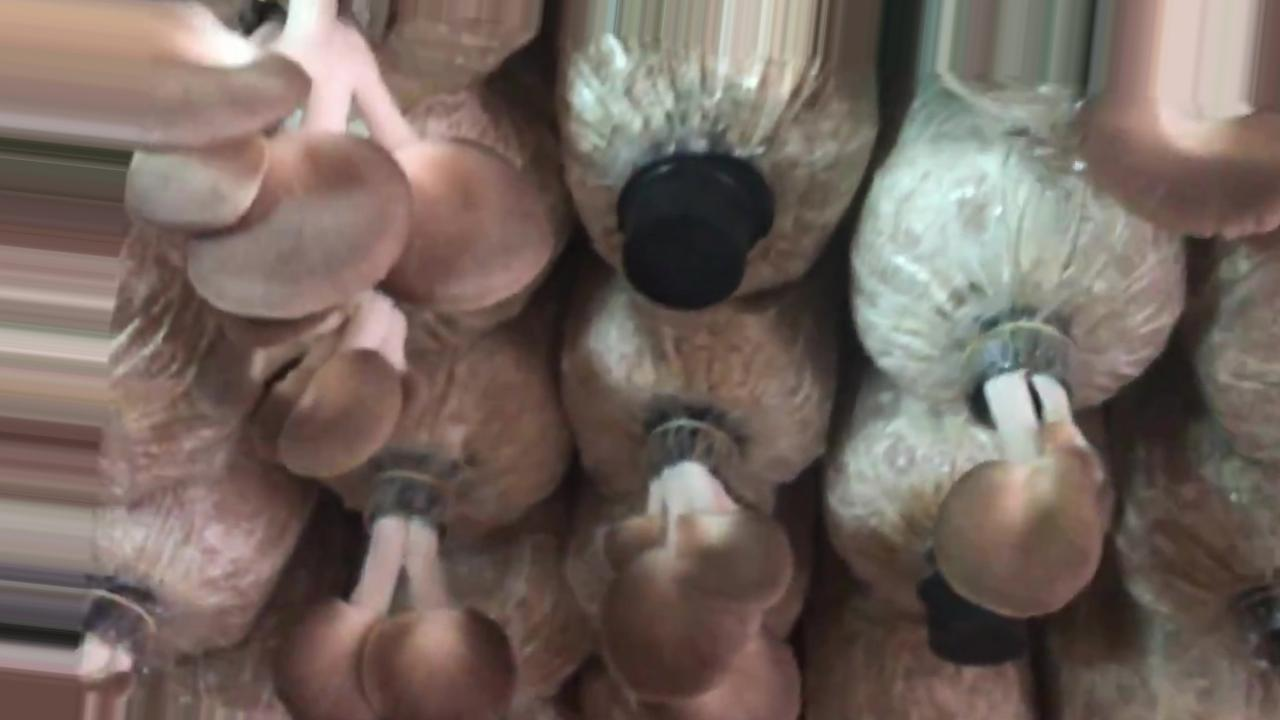nam: (1, 1, 555, 318), (277, 472, 513, 720), (604, 420, 795, 720), (938, 327, 1119, 619), (1081, 2, 1280, 240), (202, 291, 426, 477), (1, 581, 144, 716)
